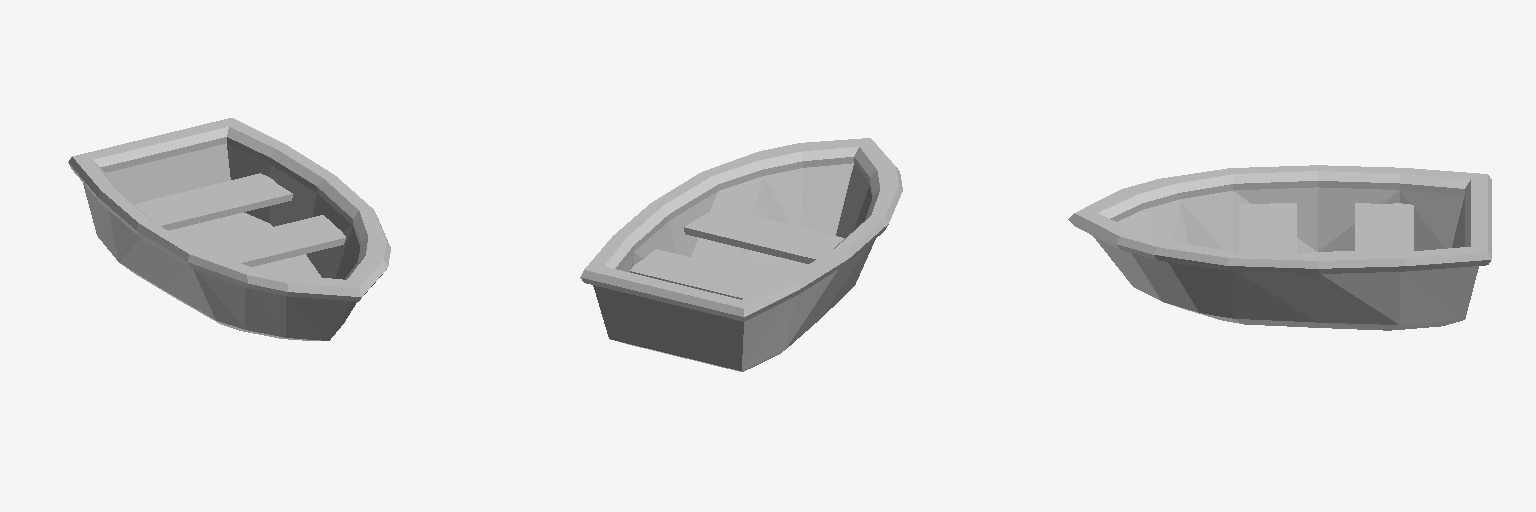
The model's file is boatModel.obj.
3 views of the same model, side by side, from view 1: azimuth 30°, elevation 25°; view 2: azimuth 150°, elevation 25°; view 3: azimuth 270°, elevation 25° (orthographic).
Visible parts, largest first — view 1: boat; view 2: boat; view 3: boat.
Part boxes in pixels (left/top/right/bottom): boat: left=68, top=118, right=390, bottom=340; boat: left=580, top=138, right=902, bottom=371; boat: left=1068, top=165, right=1491, bottom=330.
Bounding box in the file's own units: 3.2 × 1.3 × 5.82.